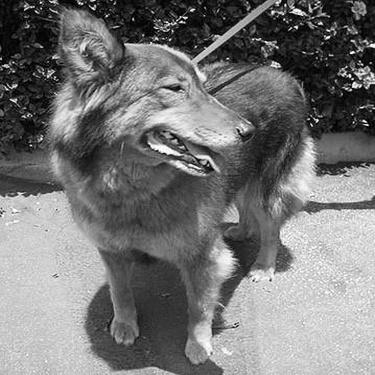dog: (37, 4, 321, 368)
